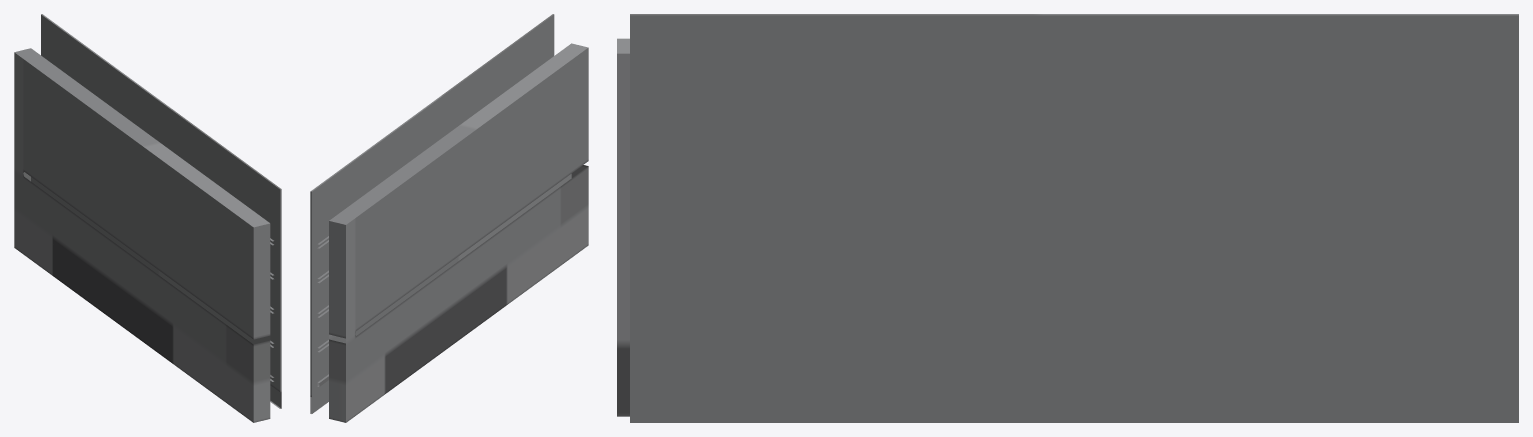
The picture shows the model from 3 angles, left to right: view 1: azimuth 30°, elevation 25°; view 2: azimuth 150°, elevation 25°; view 3: azimuth 270°, elevation 25°; orthographic projection. The views are drawn at different scales.
Bounding box in the file's own units: 0.1562 × 1.05 × 2.08.
